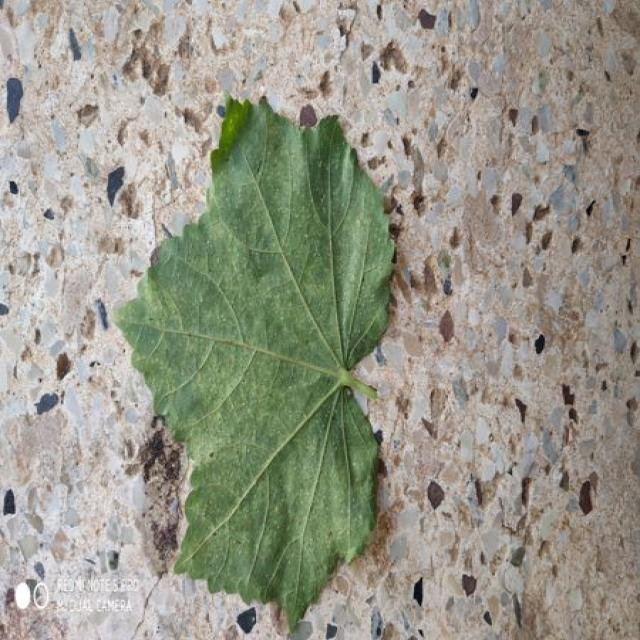Anthracnose: (118, 100, 393, 624)
